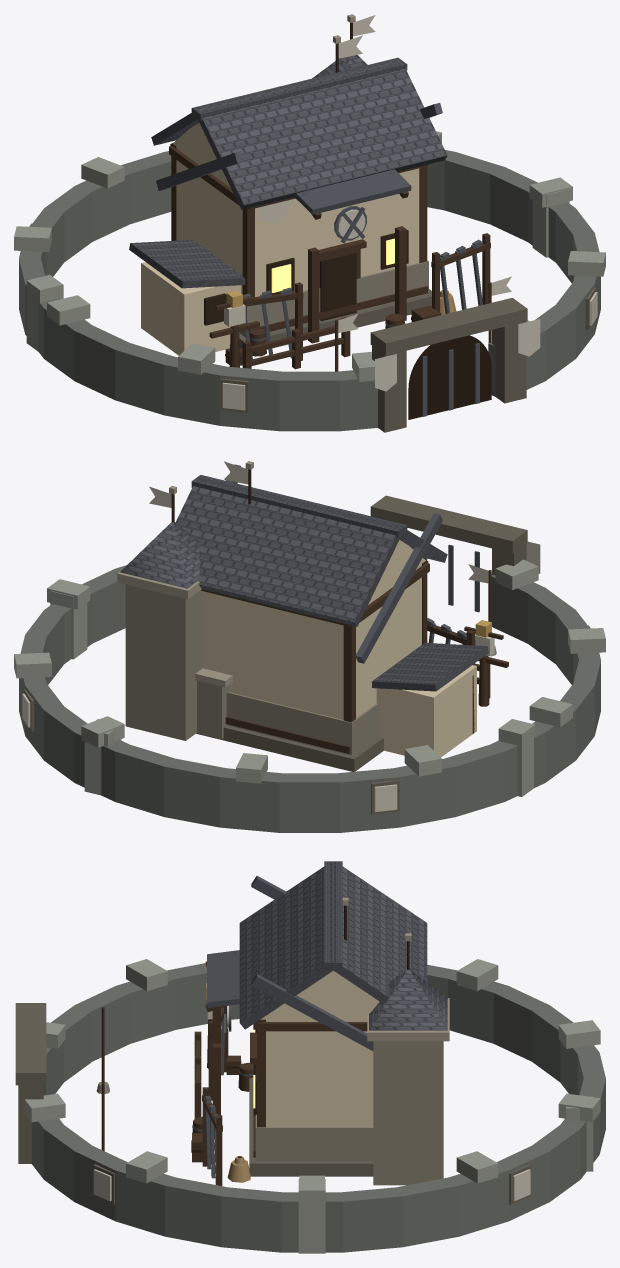
File: town-infantry-L3.glb
3 views of the same model, one above another, from view 1: azimuth 30°, elevation 25°; view 2: azimuth 150°, elevation 25°; view 3: azimuth 270°, elevation 25° (orthographic).
Parts seen in each view (by area): view 1: building-infantry-L3, object 8, object 9, object 10, object 12, object 11, object 13, object 2; view 2: building-infantry-L3, object 8, object 9, object 10, object 11, object 13; view 3: building-infantry-L3, object 8, object 9, object 10, object 2, object 11.
Part boxes in pixels (x1,y1,x2,y2): building-infantry-L3: (129, 14, 490, 369); object 8: (19, 150, 600, 431); object 9: (14, 131, 605, 381); object 10: (29, 223, 596, 432); object 12: (408, 335, 491, 419); object 11: (222, 292, 597, 410); object 13: (422, 343, 479, 416); object 2: (225, 282, 491, 371); building-infantry-L3: (117, 461, 508, 771); object 8: (19, 565, 600, 832); object 9: (14, 559, 605, 796); object 10: (23, 495, 590, 814); object 11: (22, 541, 540, 811); object 13: (423, 544, 479, 612); building-infantry-L3: (191, 861, 449, 1185); object 8: (31, 963, 605, 1252); object 9: (24, 959, 600, 1253); object 10: (15, 1003, 530, 1204); object 2: (101, 1007, 253, 1151); object 11: (93, 1169, 530, 1201).
Size of the model in its own units: 7.02 by 3.26 by 6.95.
16 materials, 1 textured.
